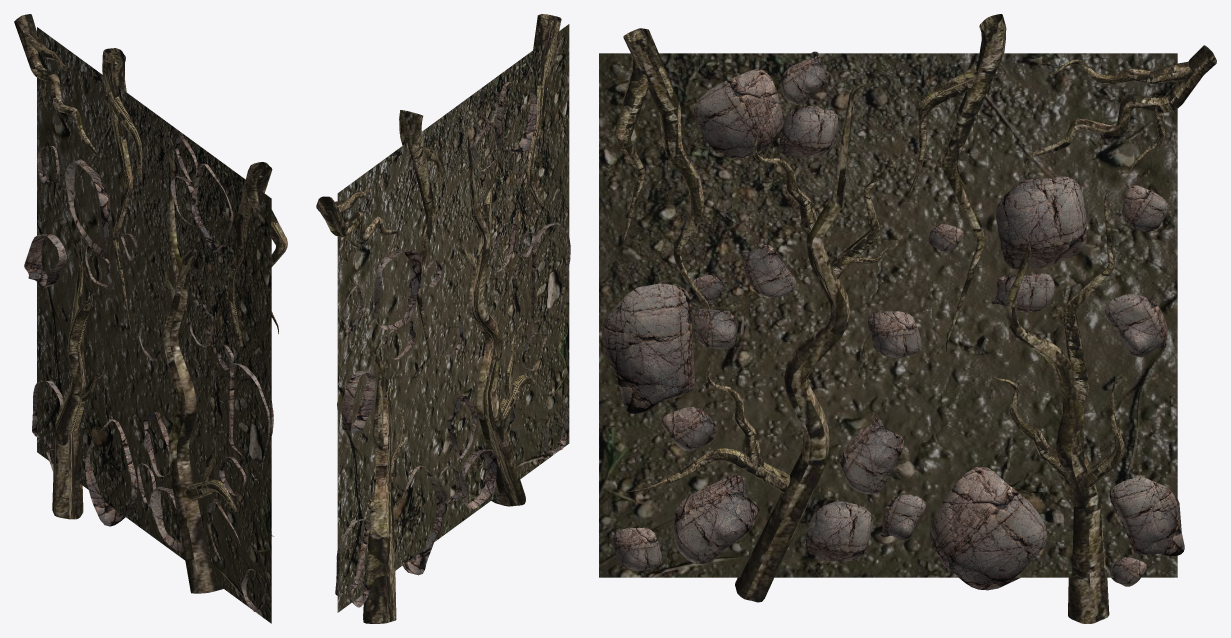
The model's file is Wall_1.fbx.
3 renders of one model, left to right at view 1: azimuth 30°, elevation 25°; view 2: azimuth 150°, elevation 25°; view 3: azimuth 270°, elevation 25°, orthographic. The views are drawn at different scales.
Visible parts, largest first — view 1: Root4.019; view 2: Root4.019; view 3: Root4.019.
Boxes of the visible parts, left/top/right/bottom form: Root4.019: left=14, top=14, right=287, bottom=623; Root4.019: left=316, top=14, right=570, bottom=623; Root4.019: left=599, top=14, right=1216, bottom=623.
Size of the model in its own units: 139 by 1404 by 1303.
